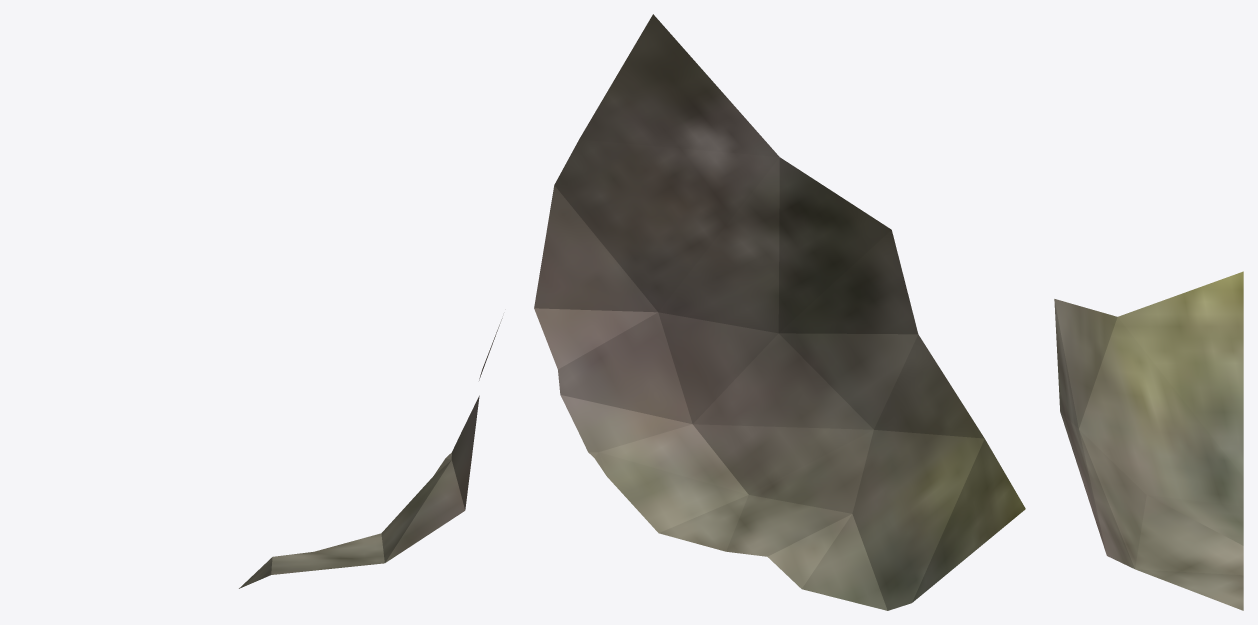
3 views of the same model, side by side, from view 1: azimuth 30°, elevation 25°; view 2: azimuth 150°, elevation 25°; view 3: azimuth 270°, elevation 25° (orthographic). The views are drawn at different scales.
Size of the model in its own units: 8.88 by 9.31 by 2.55.
Materials: 1 (1 with a texture image).
